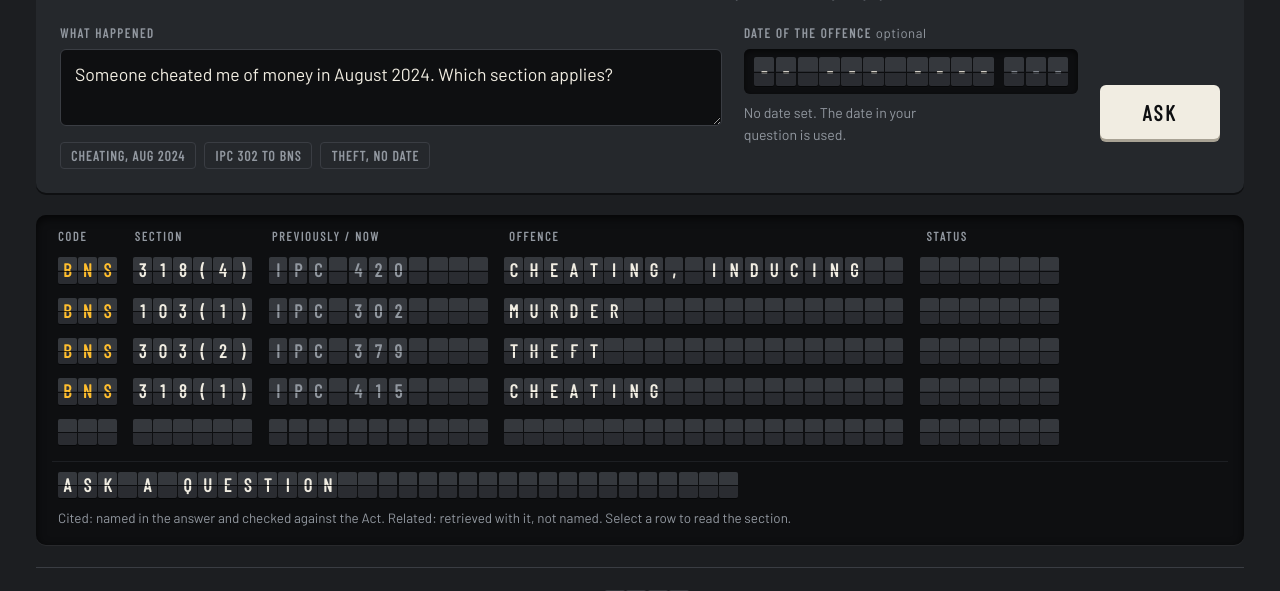
board view › opens an example row's section before any question
The width and height of the screenshot is (1280, 591).
expect the button "Ask" is shown: met, box [1100,85,1220,139]
Click the button named "BNS 318(4), was IPC 420": [640, 271] box [52,253,1228,288]
(page scrolled)
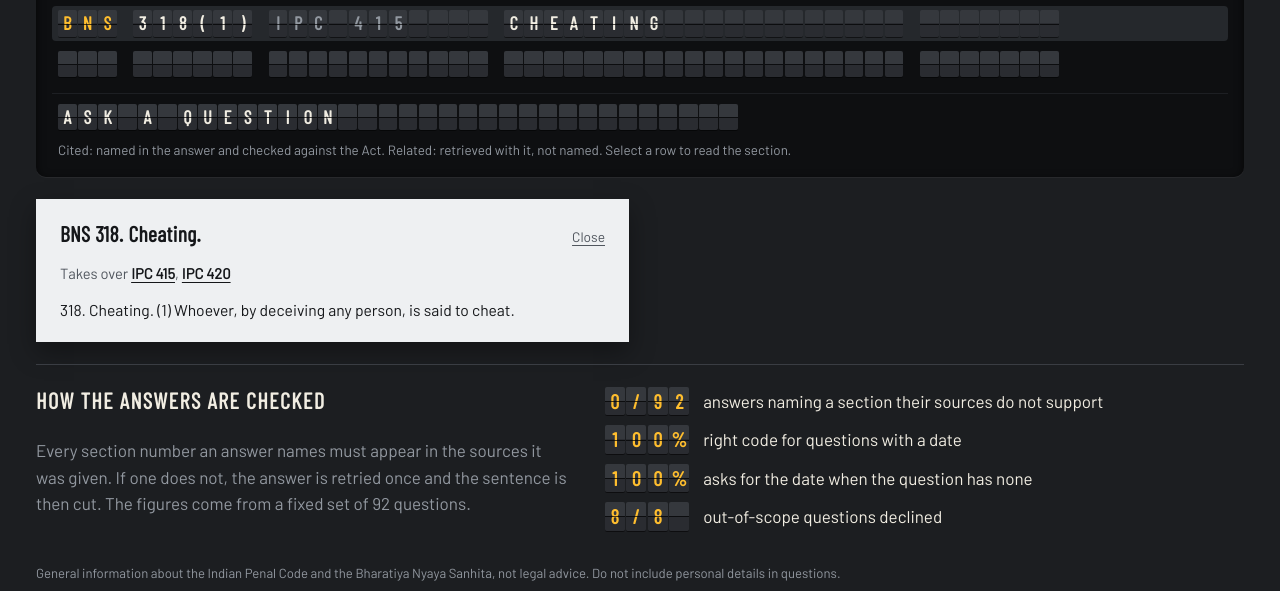
expect the heading "BNS 318. Cheating." is shown: met, box [60,221,201,246]
Click the button "Close": [588, 237] box [572,226,605,248]
(page scrolled)
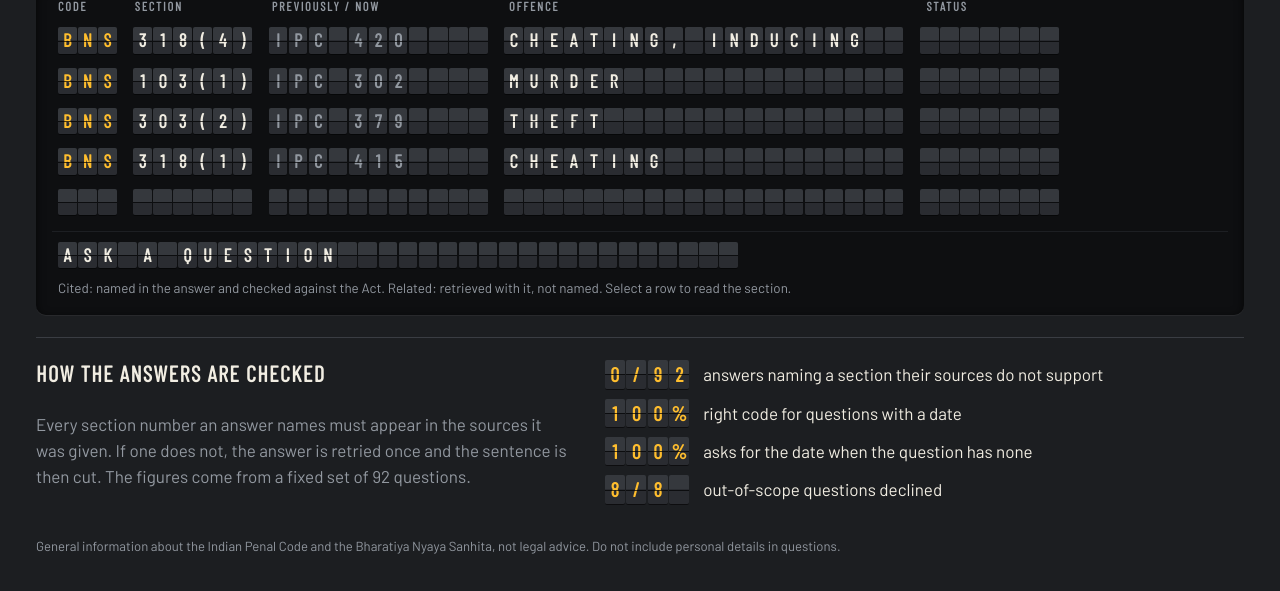
expect the heading "BNS 318. Cheating." is gone: met
